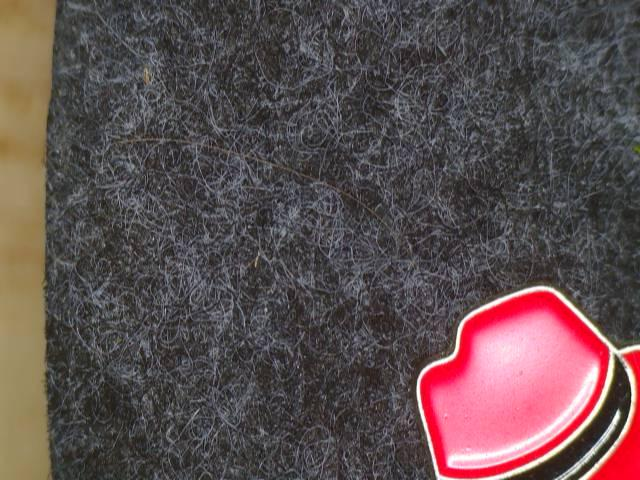Red-Hat: (374, 268, 640, 480)
